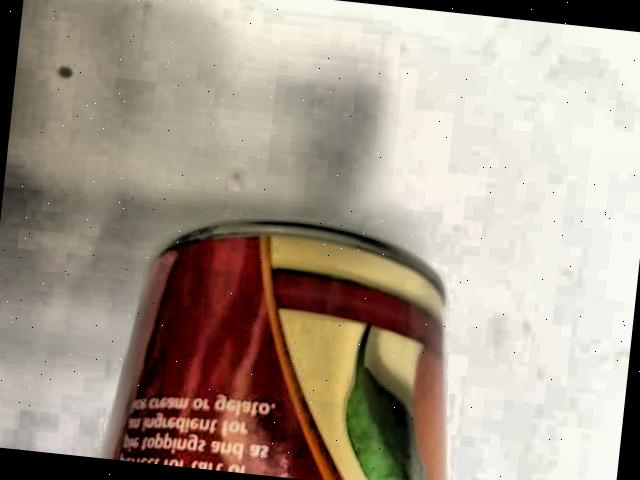Almennt: (78, 179, 474, 480)
